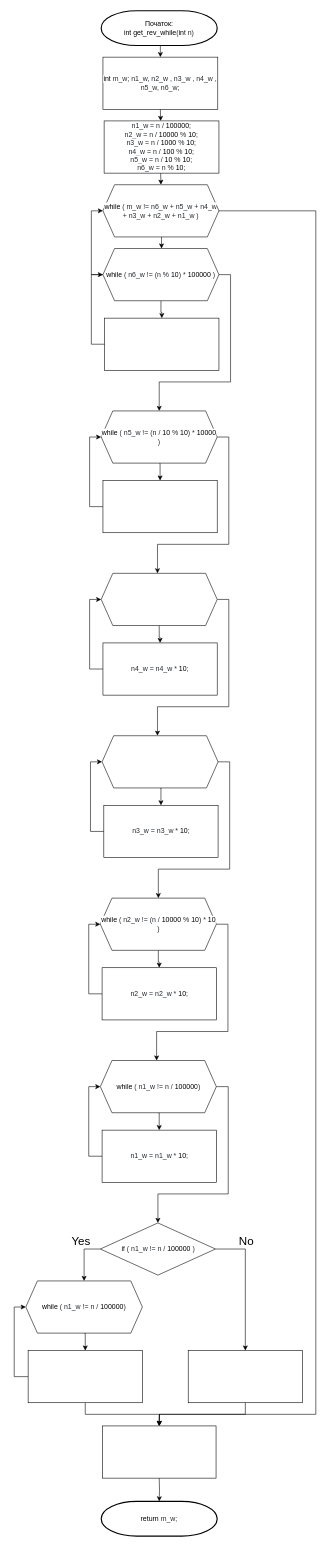
Image size: 331x1546. Some labels were removed from this diagram. Here are the shapes that lost their labels. From the top down, the centre of each, then its label:
[161,344]: n6_w = n6_w * 10 ;
[159,506]: n5_w = n5_w * 10 ;
[159,599]: while ( n4_w != (n / 100 % 10 ) * 1000 )
[160,761]: while (n3_w != (n / 1000 % 10 ) * 100 )
[85,1376]: n1_w = n1_w / 10 ;
[245,1376]: n1_w = n / 100000 ;
[159,1451]: m_w = n6_w + n5_w + n4_w + n3_w + n2_w + n1_w;
